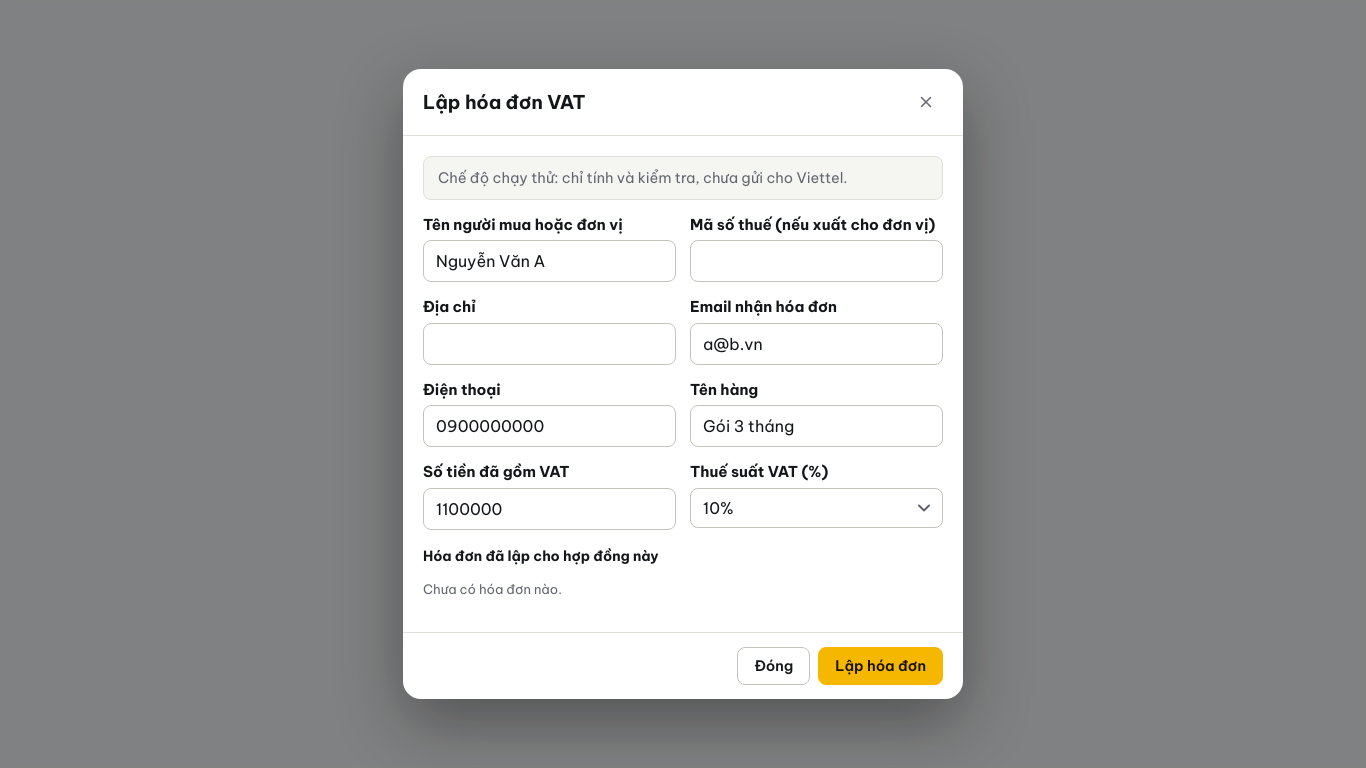
Test: invoice modal › prefills the contract, issues in test mode and lists the result
Check: the text "Chế độ chạy thử: chỉ tính và kiểm tra, chưa gửi cho Viettel." is shown, box [423, 156, 943, 200]
Check: the field labelled "Tên người mua hoặc đơn vị" holds "Nguyễn Văn A", box [423, 240, 676, 282]
Click the button "Lập hóa đơn" at coordinates (881, 666), box [818, 647, 943, 685]
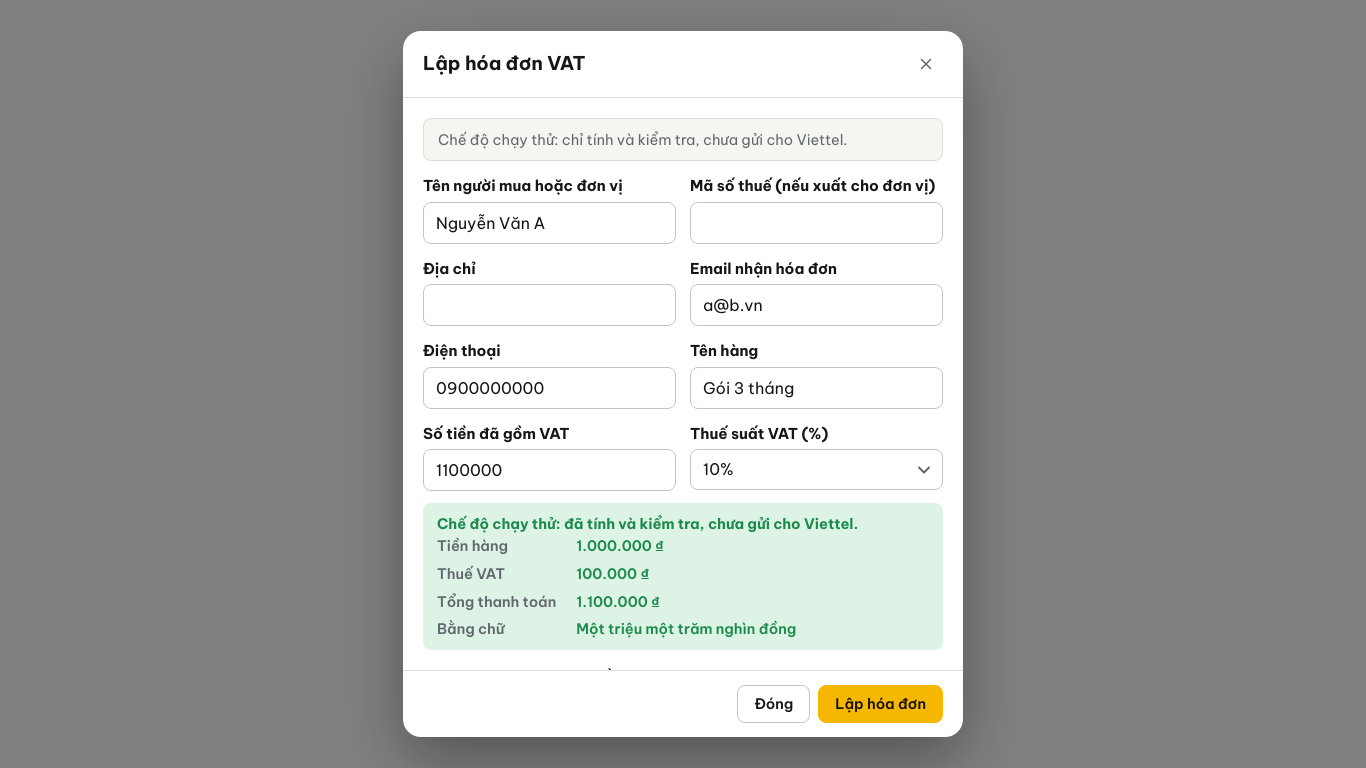
Check: the text "Tổng thanh toán" is shown, box [437, 591, 556, 612]
Check: the text "Tiền hàng" is shown, box [437, 536, 508, 555]
